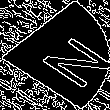N_NW: (10, 23, 100, 87)
